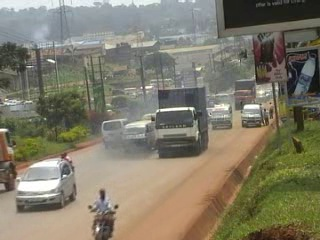Car: (14, 154, 77, 212)
Motorcycle: (85, 186, 120, 239), (59, 148, 76, 167)
